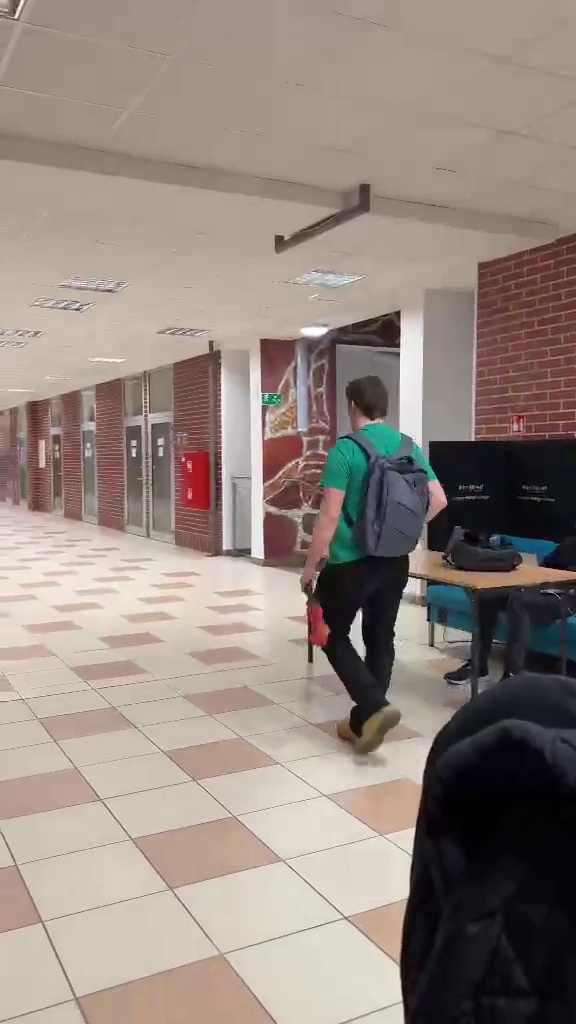no vest: (300, 370, 445, 748)
